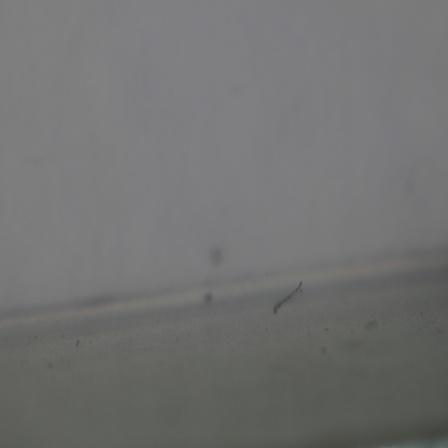Jentik-Nyamuk: (267, 278, 309, 317)
